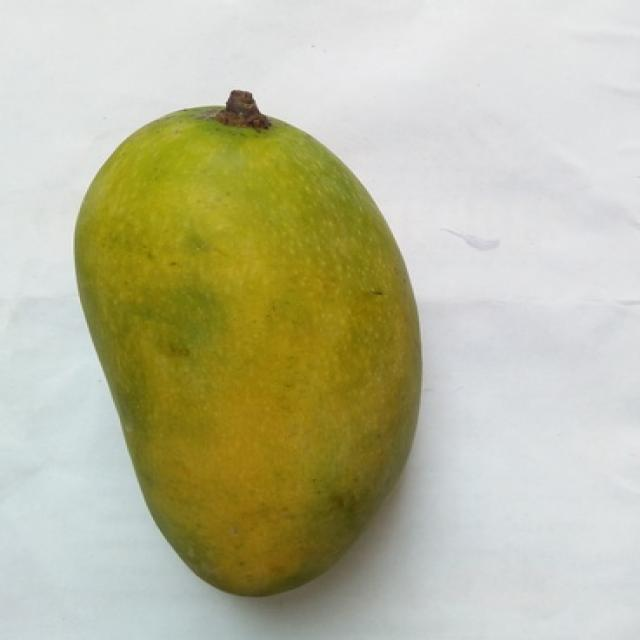Mango: (75, 107, 419, 594)
